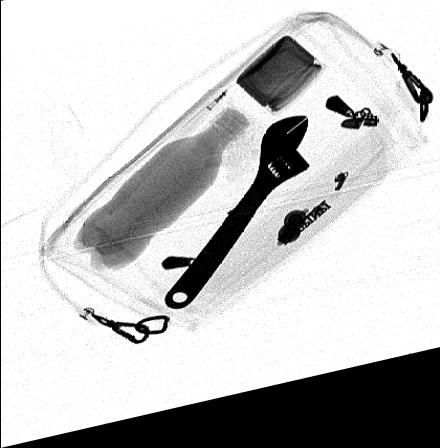Wrench: (161, 127, 311, 320)
